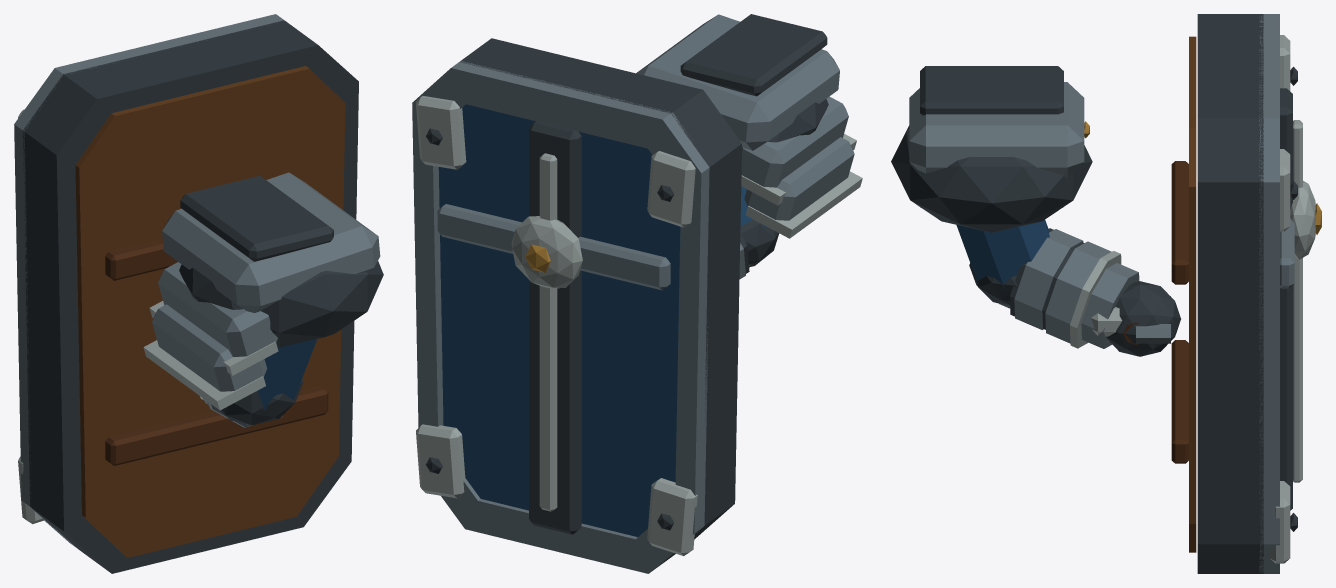
The model's file is ArmLeft.glb.
The picture shows the model from 3 angles, left to right: view 1: azimuth 30°, elevation 25°; view 2: azimuth 150°, elevation 25°; view 3: azimuth 270°, elevation 25°; orthographic projection. The views are drawn at different scales.
Parts seen in each view (by area): view 1: Sculpture; view 2: Sculpture; view 3: Sculpture.
Part boxes in pixels (bbox=[...]): Sculpture: bbox=[14, 14, 383, 573]; Sculpture: bbox=[412, 14, 862, 573]; Sculpture: bbox=[891, 14, 1321, 573].
Size of the model in its own units: 0.82 by 1.24 by 1.05.
